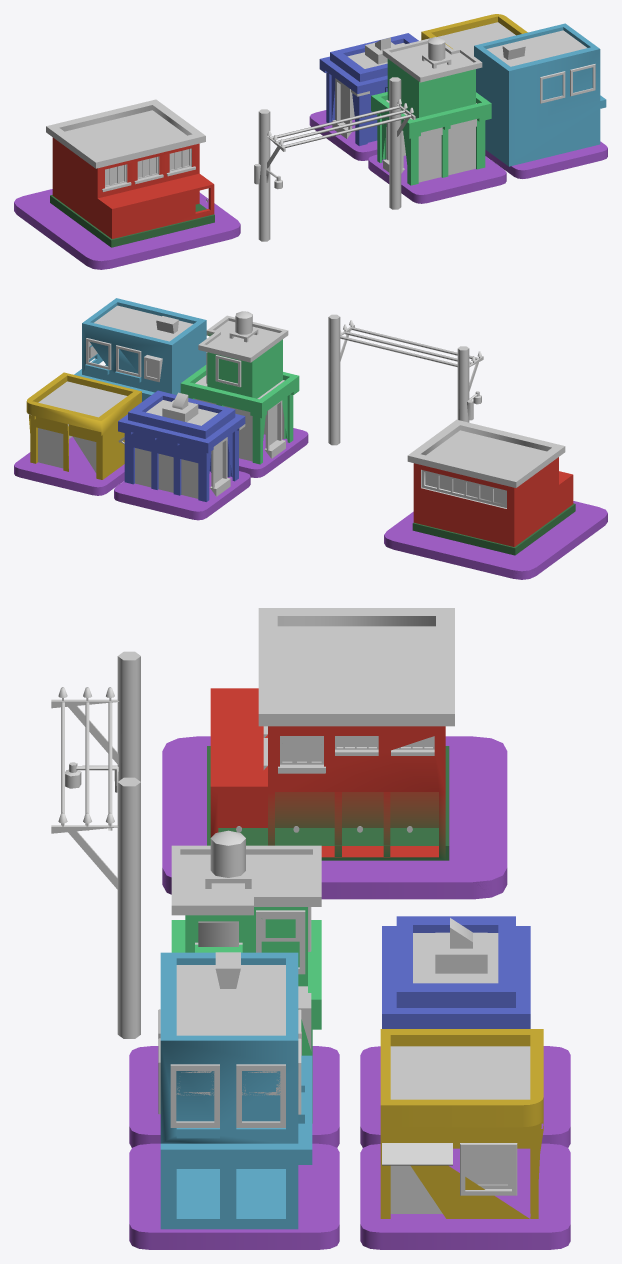
File: bomberos_m_LODs.fbx
The picture shows the model from 3 angles, top to bottom: view 1: azimuth 30°, elevation 25°; view 2: azimuth 150°, elevation 25°; view 3: azimuth 270°, elevation 25°; orthographic projection. The views are drawn at different scales.
Parts seen in each view (by area): view 1: bomberos_m_LOD1, bomberos_m_LOD2; view 2: bomberos_m_LOD1, bomberos_m_LOD2; view 3: bomberos_m_LOD1, bomberos_m_LOD2.
Part boxes in pixels (box(x1,y1,x2,y2)): bomberos_m_LOD1: box(14, 14, 607, 269); bomberos_m_LOD2: box(14, 14, 605, 267); bomberos_m_LOD1: box(14, 298, 607, 579); bomberos_m_LOD2: box(17, 321, 607, 577); bomberos_m_LOD1: box(51, 608, 570, 1249); bomberos_m_LOD2: box(58, 688, 567, 1231).
Bounding box in the file's own units: 30.52 × 7.95 × 13.63.
